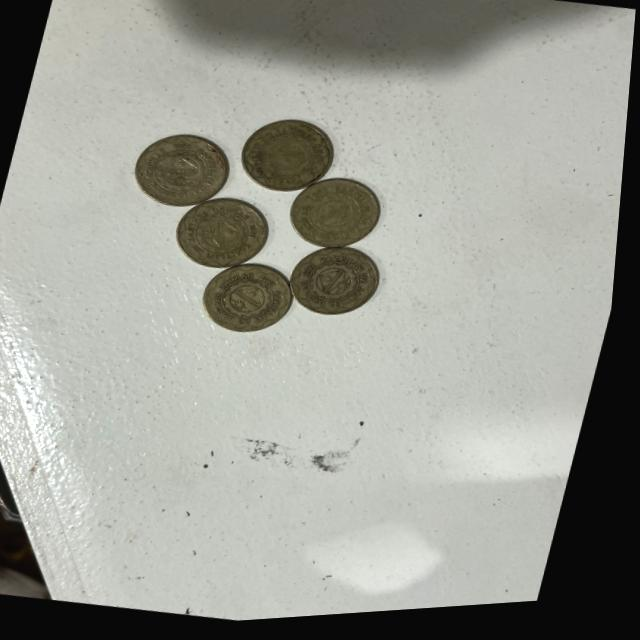5_Old_Back: (279, 241, 393, 331), (128, 127, 235, 220), (171, 194, 284, 281), (238, 116, 349, 204), (201, 256, 306, 348), (285, 178, 392, 261)
